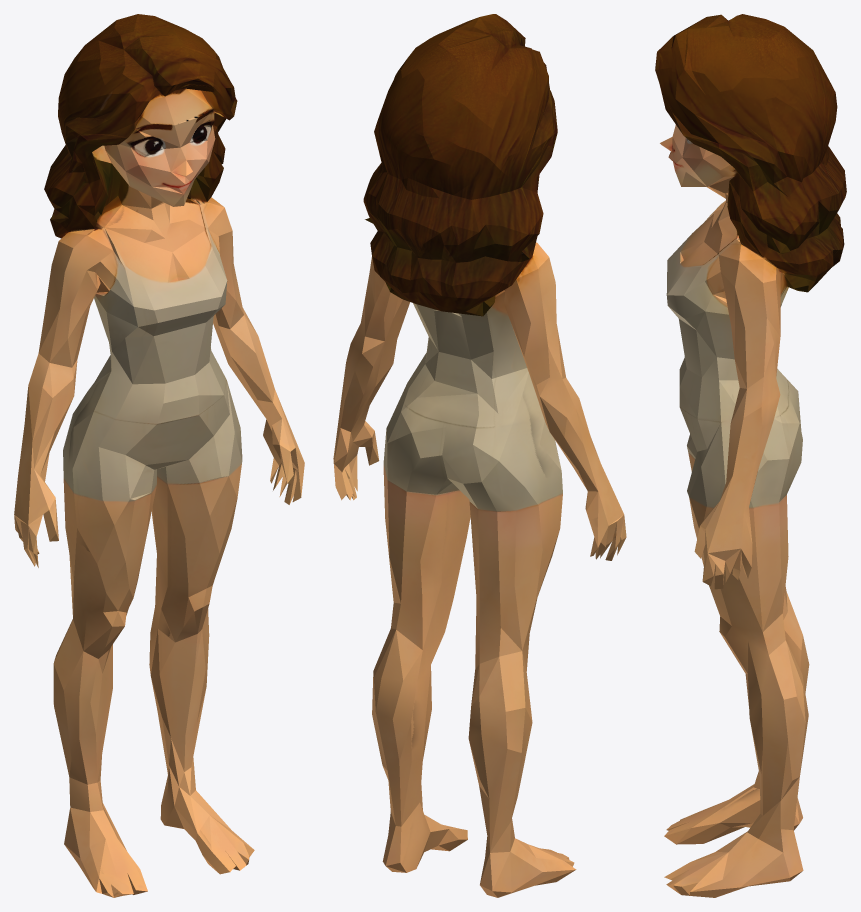
Rendered from base_basic_pbr.fbx.
3 renders of one model, left to right at view 1: azimuth 30°, elevation 25°; view 2: azimuth 150°, elevation 25°; view 3: azimuth 270°, elevation 25°, orthographic.
Parts seen in each view (by area): view 1: model; view 2: model; view 3: model.
Part boxes in pixels (<box>): model: <box>14,14,304,897</box>; model: <box>333,14,626,897</box>; model: <box>655,14,846,897</box>.
Size of the model in its own units: 65.53 by 190 by 39.36.
Materials: 1 (1 with a texture image).
